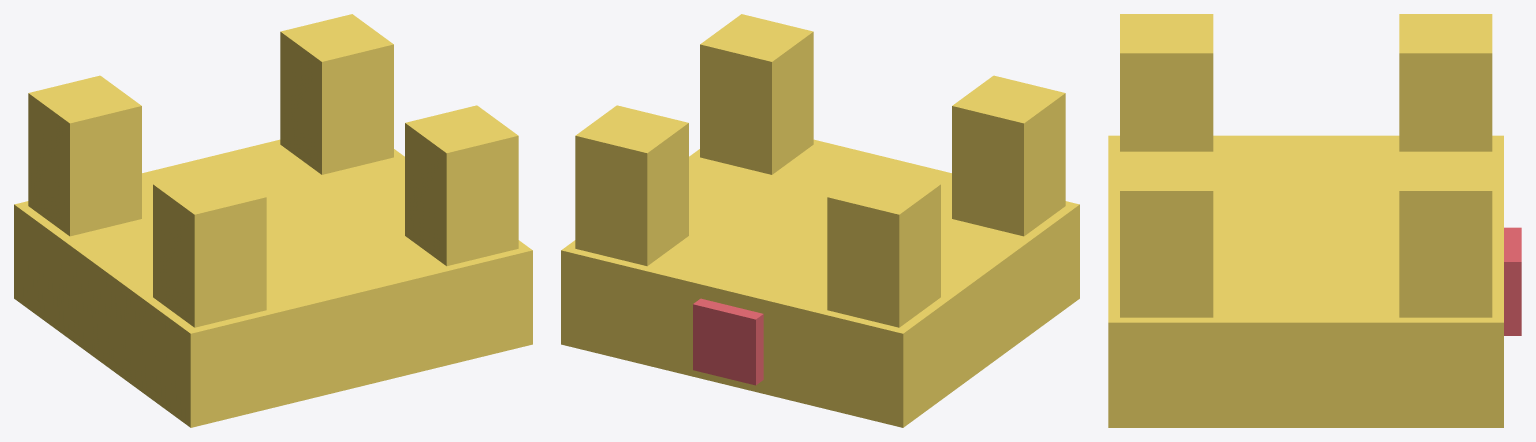
Rendered from hat_crown.gltf.
3 renders of one model, left to right at view 1: azimuth 30°, elevation 25°; view 2: azimuth 150°, elevation 25°; view 3: azimuth 270°, elevation 25°, orthographic. The views are drawn at different scales.
Visible parts, largest first — view 1: hat_crown; view 2: hat_crown; view 3: hat_crown.
Part boxes in pixels (left/top/right/bottom): hat_crown: left=14, top=14, right=532, bottom=427; hat_crown: left=561, top=14, right=1079, bottom=427; hat_crown: left=1108, top=14, right=1521, bottom=427.
Size of the model in its own units: 0.38 by 0.22 by 0.355.
